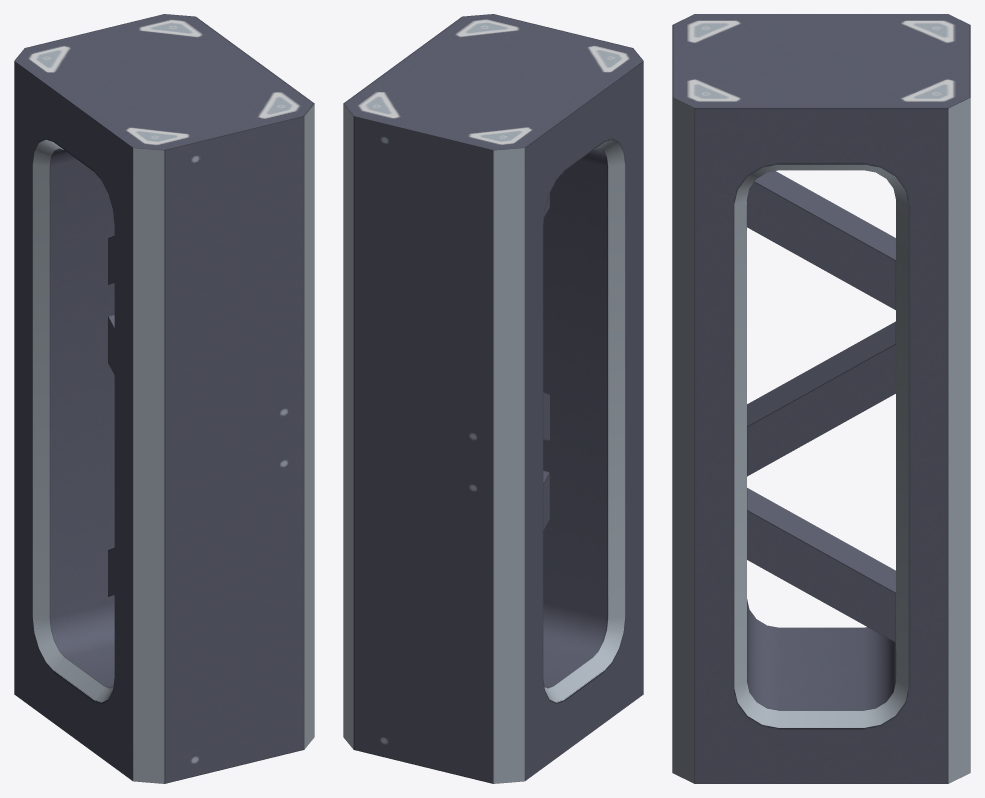
The model's file is Pillar_Big_02.FBX.
The picture shows the model from 3 angles, left to right: view 1: azimuth 30°, elevation 25°; view 2: azimuth 150°, elevation 25°; view 3: azimuth 270°, elevation 25°; orthographic projection. The views are drawn at different scales.
Visible parts, largest first — view 1: Pillar_Big_02; view 2: Pillar_Big_02; view 3: Pillar_Big_02.
Part boxes in pixels (x1=…): Pillar_Big_02: x1=14, y1=14, x2=314, y2=783; Pillar_Big_02: x1=343, y1=14, x2=643, y2=783; Pillar_Big_02: x1=672, y1=14, x2=970, y2=783.
Size of the model in its own units: 1.5 by 5 by 2.
Materials: 2 (2 with a texture image).
